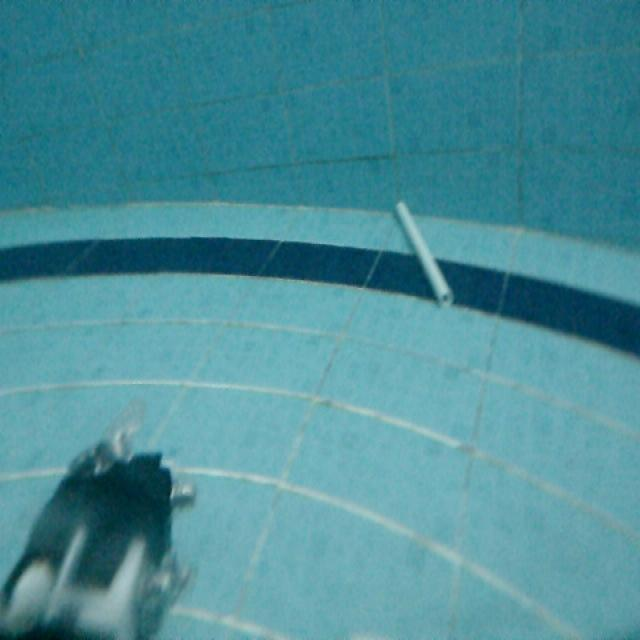Cube: (392, 200, 462, 312)
